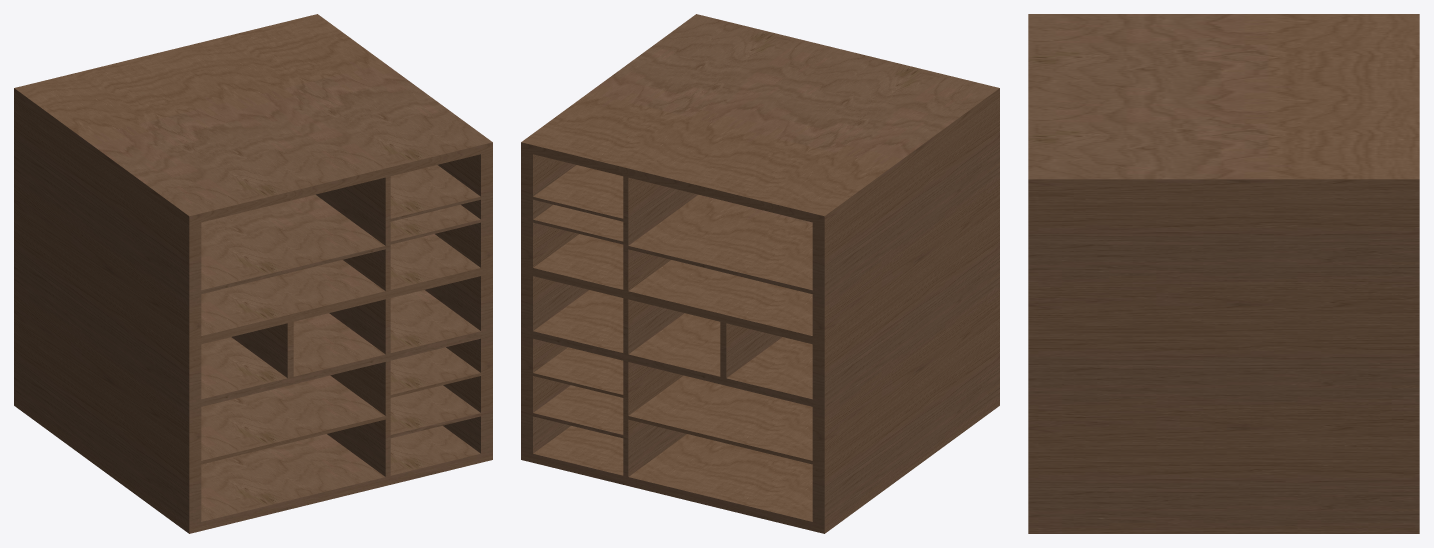
The model's file is shelf.fbx.
3 renders of one model, left to right at view 1: azimuth 30°, elevation 25°; view 2: azimuth 150°, elevation 25°; view 3: azimuth 270°, elevation 25°, orthographic. The views are drawn at different scales.
Visible parts, largest first — view 1: RetroRoomDivider.export; view 2: RetroRoomDivider.export; view 3: RetroRoomDivider.export.
Part boxes in pixels (x1=…): RetroRoomDivider.export: x1=14, y1=14, x2=492, y2=533; RetroRoomDivider.export: x1=521, y1=14, x2=999, y2=533; RetroRoomDivider.export: x1=1028, y1=14, x2=1419, y2=533.
Bounding box in the file's own units: 100 × 100 × 100.
